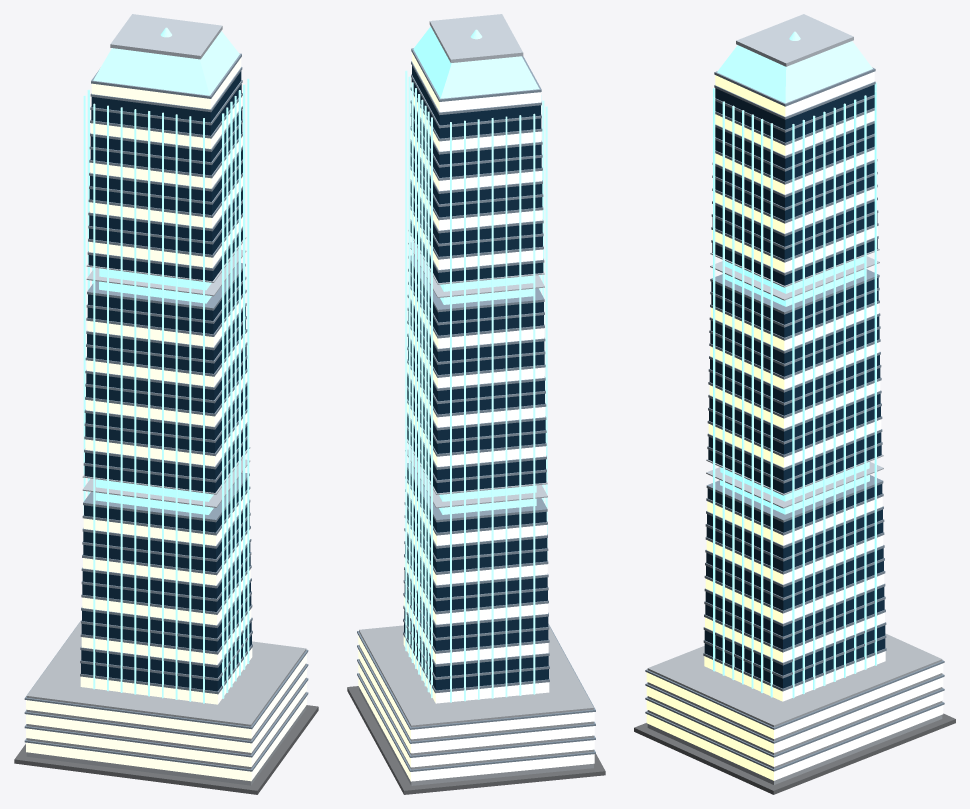
Rendered from saigon_marina_ifc.glb.
3 views of the same model, side by side, from view 1: azimuth 30°, elevation 25°; view 2: azimuth 150°, elevation 25°; view 3: azimuth 270°, elevation 25° (orthographic).
Visible parts, largest first — view 1: saigon_marina_ifc; view 2: saigon_marina_ifc; view 3: saigon_marina_ifc.
Boxes of the visible parts, x1,y1,x2,y2 form: saigon_marina_ifc: (14, 14, 318, 794); saigon_marina_ifc: (347, 14, 605, 794); saigon_marina_ifc: (634, 14, 955, 794).
Bounding box in the file's own units: 100 × 240 × 101.
